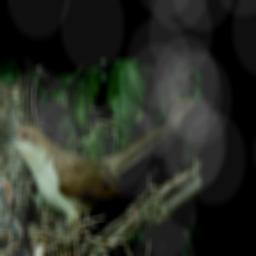Cuckoo: (0, 96, 193, 229)
